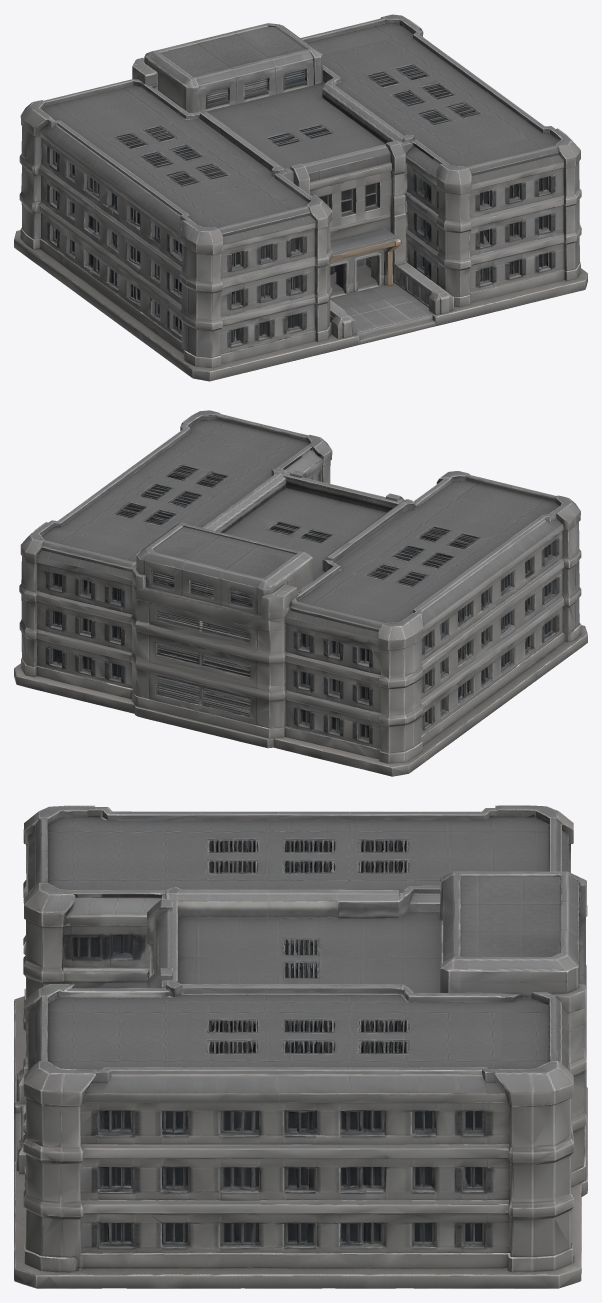
File: imperial_barracks.glb
3 views of the same model, one above another, from view 1: azimuth 30°, elevation 25°; view 2: azimuth 150°, elevation 25°; view 3: azimuth 270°, elevation 25° (orthographic). The views are drawn at different scales.
Visible parts, largest first — view 1: mesh_node; view 2: mesh_node; view 3: mesh_node.
Part boxes in pixels (left/top/right/bottom): mesh_node: left=14, top=14, right=587, bottom=381; mesh_node: left=14, top=410, right=587, bottom=776; mesh_node: left=14, top=805, right=587, bottom=1288.
Size of the model in its own units: 28.79 by 11.18 by 24.67.
1 material, 1 textured.
